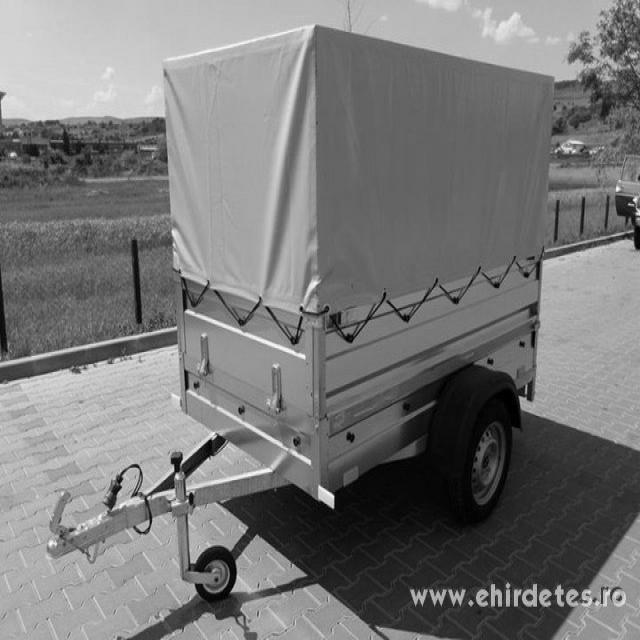Box Truck: (47, 25, 559, 561)
